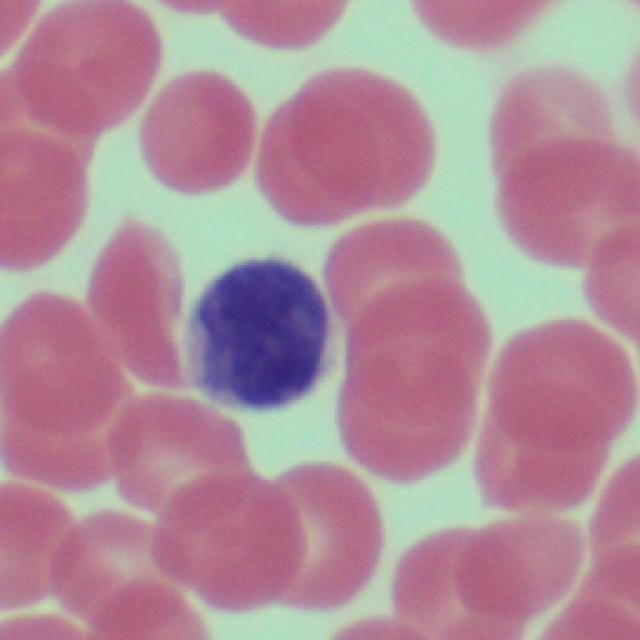RBC: (330, 207, 489, 488), (470, 310, 624, 596), (486, 48, 638, 287), (0, 286, 124, 494), (298, 71, 444, 209), (87, 397, 262, 508), (160, 473, 310, 602), (18, 0, 156, 139), (397, 532, 560, 640), (137, 62, 258, 202), (91, 205, 192, 368), (0, 72, 83, 268), (270, 463, 380, 602), (255, 96, 369, 229), (57, 517, 178, 623), (0, 473, 80, 607), (404, 0, 555, 53), (602, 484, 640, 640)
WBC: (189, 235, 339, 432)
